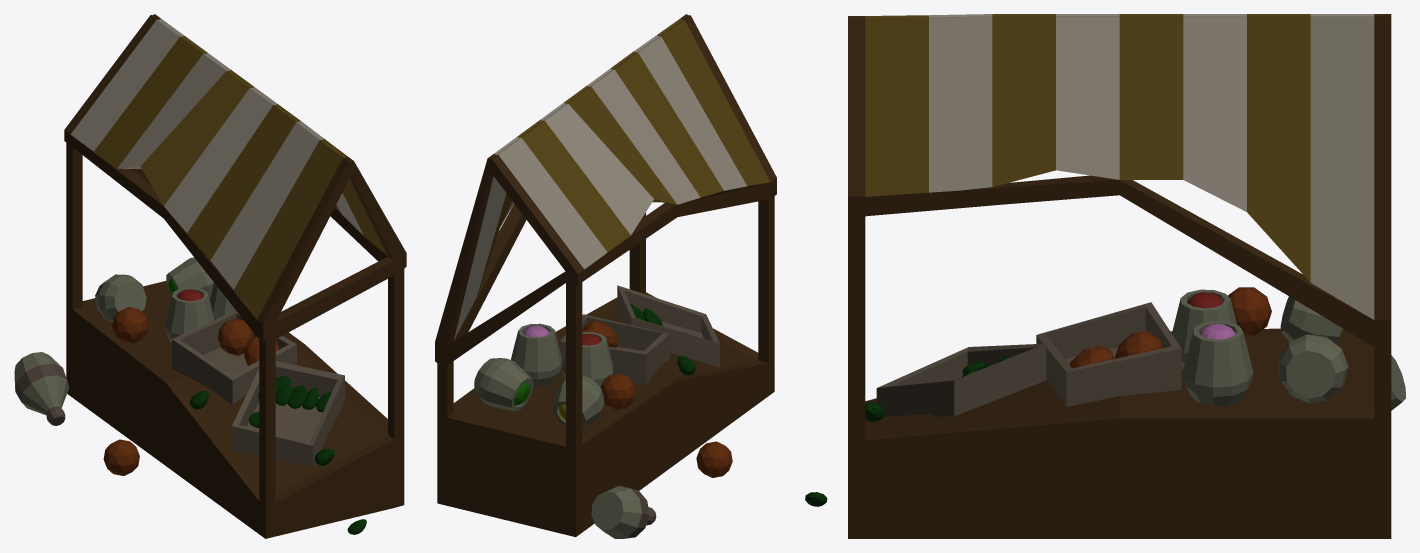
File: Market stand v1.fbx
The picture shows the model from 3 angles, left to right: view 1: azimuth 30°, elevation 25°; view 2: azimuth 150°, elevation 25°; view 3: azimuth 270°, elevation 25°; orthographic projection. The views are drawn at different scales.
Visible parts, largest first — view 1: Market stand; view 2: Market stand; view 3: Market stand.
Boxes of the visible parts, x1,y1,x2,y2 form: Market stand: [14, 14, 406, 538]; Market stand: [435, 14, 776, 538]; Market stand: [805, 14, 1405, 538].
Size of the model in its own units: 911 by 1582 by 1738.
